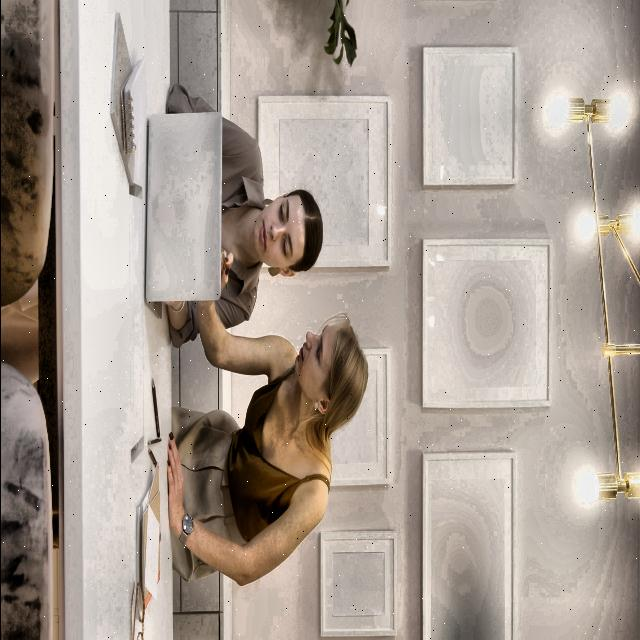not-gloved: (162, 424, 193, 552)
